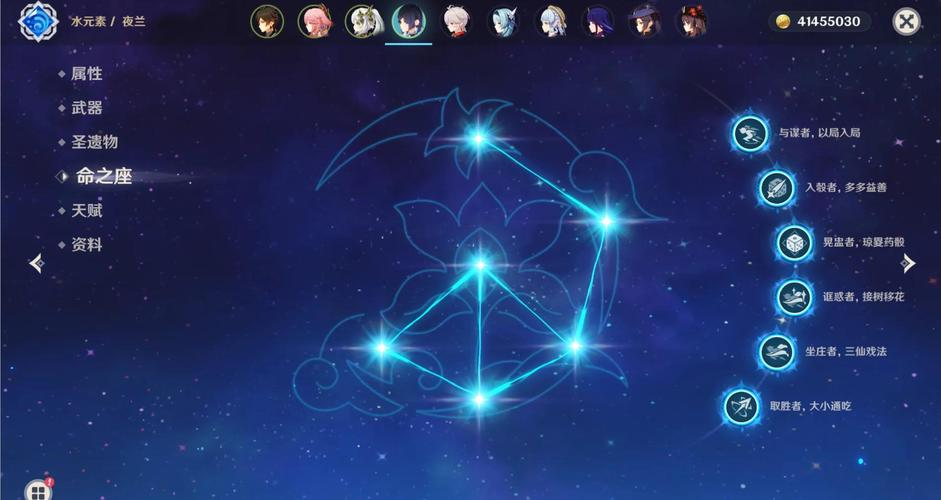夜兰: (389, 5, 426, 41)
